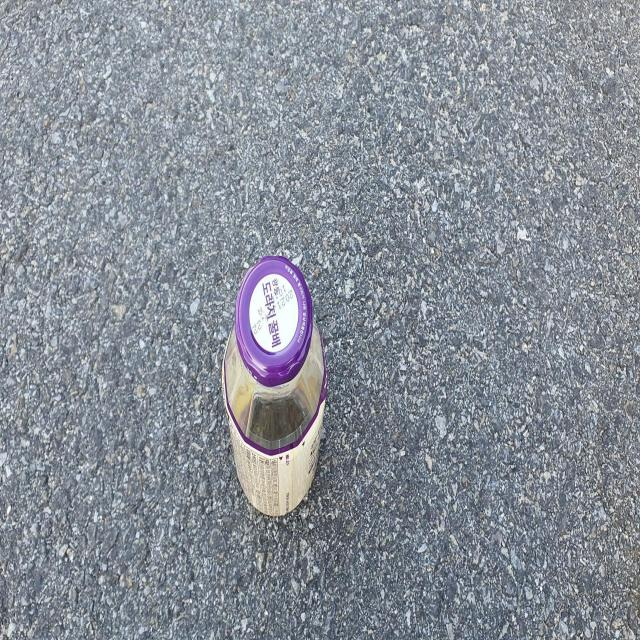glass: (222, 257, 327, 516)
